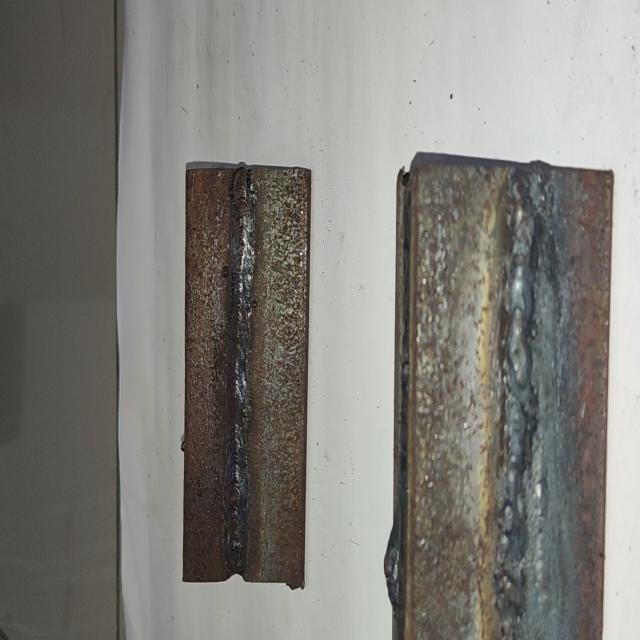Good Weld: (498, 164, 542, 639), (225, 169, 256, 574)
